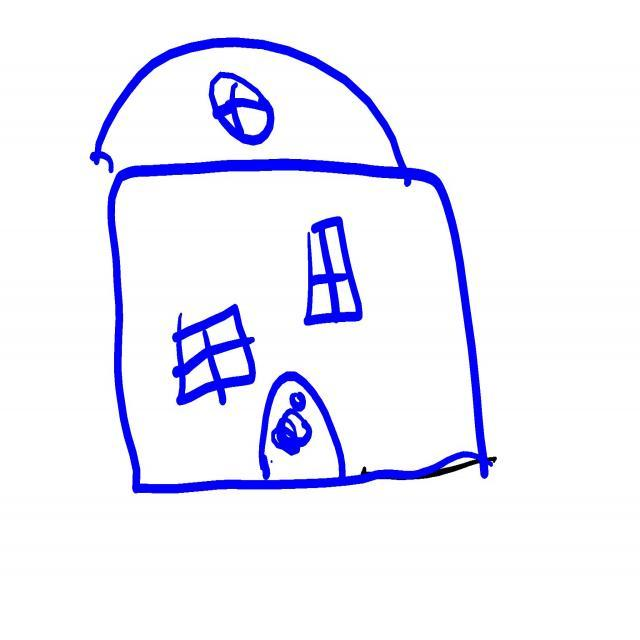door: (259, 372, 346, 481)
house: (90, 37, 500, 494)
roof: (94, 37, 411, 174)
wall: (108, 161, 485, 494)
window: (172, 305, 256, 406), (305, 217, 363, 326), (209, 72, 272, 144)
